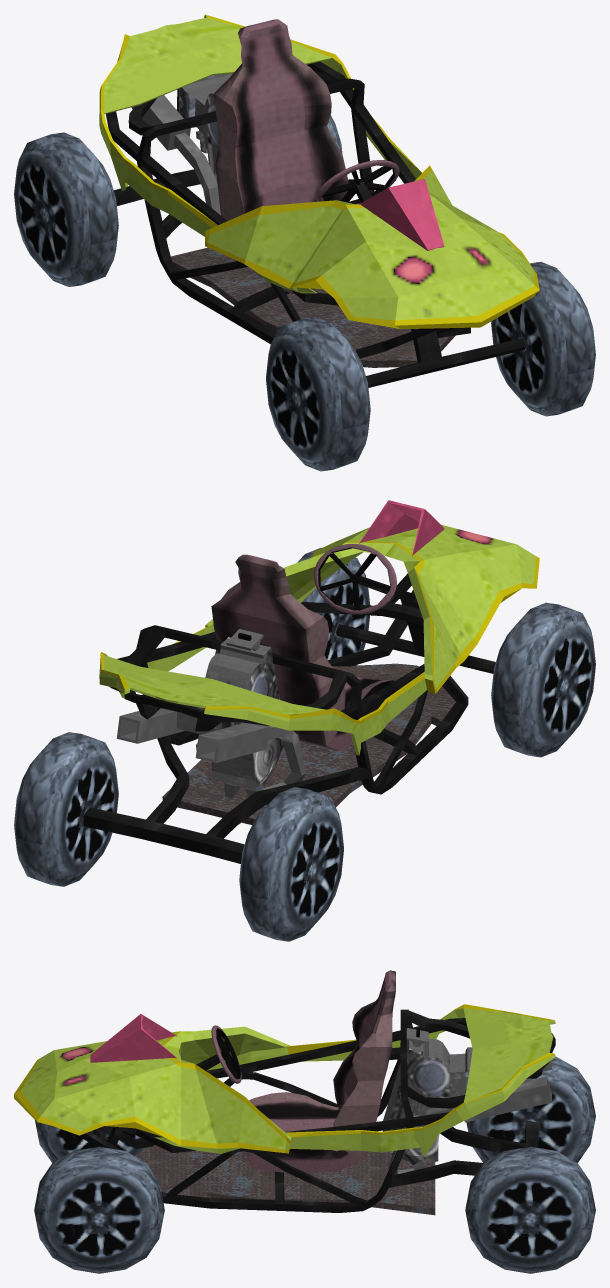
The model's file is GoKart 0.3.fbx.
The picture shows the model from 3 angles, top to bottom: view 1: azimuth 30°, elevation 25°; view 2: azimuth 150°, elevation 25°; view 3: azimuth 270°, elevation 25°; orthographic projection. The views are drawn at different scales.
Visible parts, largest first — view 1: FrontTopFairing, Chassis, DriverSeat, FairingRear, Wheel Rear right, Wheel Front right, Wheel Front left, Windshield, FrontAxleSteeringColumn, ExhaustPipe, EngineBlock, Steering Wheel; view 2: Chassis, FrontTopFairing, Wheel Front right, Wheel Rear right, Wheel Rear Left, DriverSeat, FairingRear, EngineBlock, ExhaustPipe, Wheel Front left, Steering Wheel, FrontAxleSteeringColumn (+1 smaller); view 3: Chassis, FrontTopFairing, Wheel Rear Left, Wheel Front left, FairingRear, DriverSeat, Wheel Rear right, EngineBlock, Windshield, ExhaustPipe, Wheel Front right, Steering Wheel (+1 smaller).
Part boxes in pixels (x1,y1,x2,y2): FrontTopFairing: [205, 165, 539, 329]; Chassis: [106, 61, 470, 367]; DriverSeat: [214, 19, 348, 293]; FairingRear: [99, 14, 421, 293]; Wheel Rear right: [14, 132, 118, 286]; Wheel Front right: [266, 316, 370, 471]; Wheel Front left: [491, 262, 595, 416]; Windshield: [359, 179, 444, 250]; FrontAxleSteeringColumn: [354, 182, 525, 387]; ExhaustPipe: [131, 95, 225, 256]; EngineBlock: [176, 73, 232, 181]; Steering Wheel: [316, 160, 399, 204]; Chassis: [83, 573, 468, 863]; FrontTopFairing: [205, 524, 539, 693]; Wheel Front right: [491, 602, 595, 757]; Wheel Rear right: [239, 787, 343, 941]; Wheel Rear Left: [14, 732, 118, 886]; DriverSeat: [211, 554, 394, 750]; FairingRear: [99, 586, 426, 755]; EngineBlock: [176, 629, 283, 789]; ExhaustPipe: [116, 708, 306, 798]; Wheel Front left: [297, 548, 370, 665]; Steering Wheel: [313, 544, 396, 614]; FrontAxleSteeringColumn: [336, 574, 495, 673]; Chassis: [76, 1009, 555, 1215]; FrontTopFairing: [14, 1026, 290, 1153]; Wheel Rear Left: [465, 1146, 595, 1273]; Wheel Front left: [34, 1146, 164, 1273]; FairingRear: [154, 1004, 555, 1156]; DriverSeat: [246, 970, 395, 1172]; Wheel Rear right: [466, 1056, 595, 1162]; EngineBlock: [383, 1028, 472, 1165]; Windshield: [90, 1014, 177, 1062]; ExhaustPipe: [388, 1060, 551, 1174]; Wheel Front right: [35, 1120, 148, 1162]; Steering Wheel: [211, 1025, 241, 1083].
Bounding box in the file's own units: 229 × 229 × 491.
Materials: 9 (9 with a texture image).
